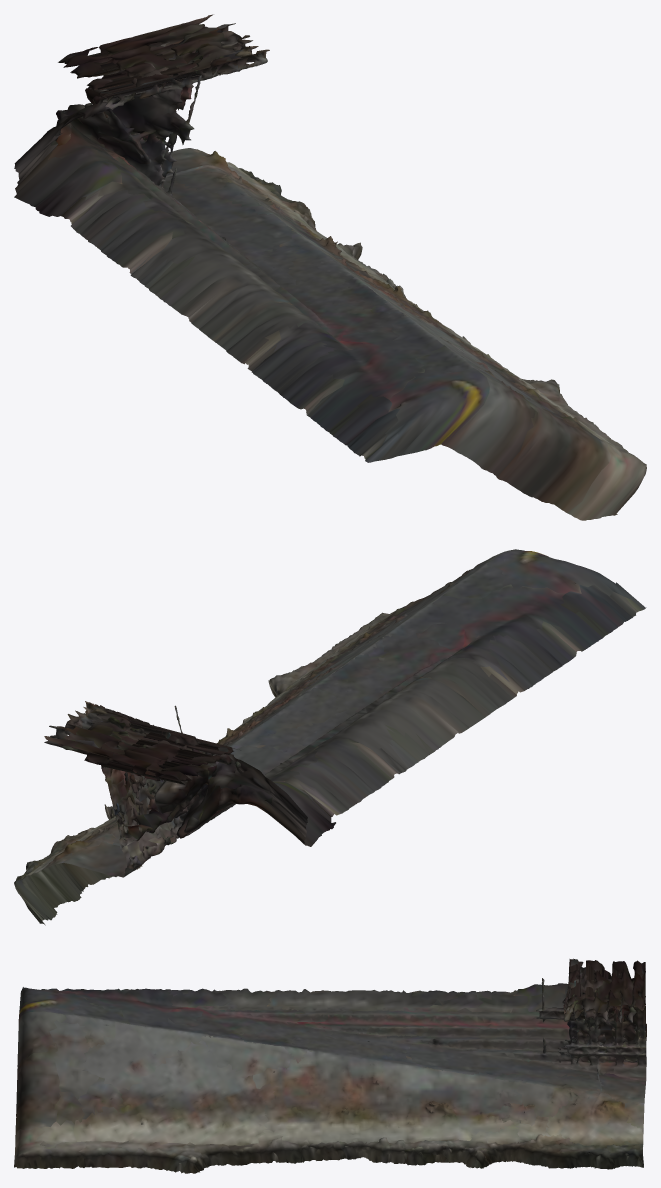
Rendered from run4_p3_c2.glb.
3 views of the same model, one above another, from view 1: azimuth 30°, elevation 25°; view 2: azimuth 150°, elevation 25°; view 3: azimuth 270°, elevation 25° (orthographic). The views are drawn at different scales.
Visible parts, largest first — view 1: run4_p3_straight_c2; view 2: run4_p3_straight_c2; view 3: run4_p3_straight_c2.
Part boxes in pixels (bbox=[...]): run4_p3_straight_c2: bbox=[14, 14, 646, 520]; run4_p3_straight_c2: bbox=[14, 549, 646, 925]; run4_p3_straight_c2: bbox=[14, 958, 646, 1173].
Bounding box in the file's own units: 8.48 × 5.73 × 20.15.
Materials: 1 (1 with a texture image).
